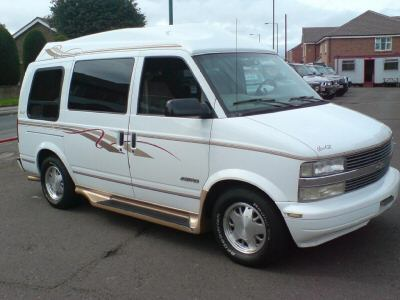van: (15, 32, 400, 267)
